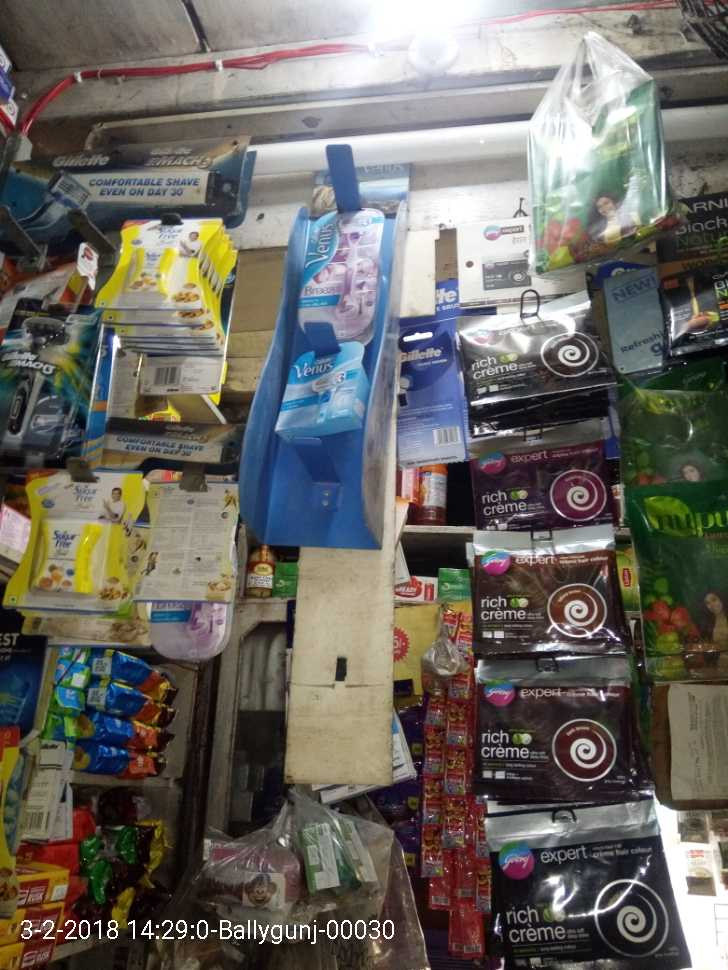venus: (307, 181, 376, 335), (280, 344, 373, 444)
